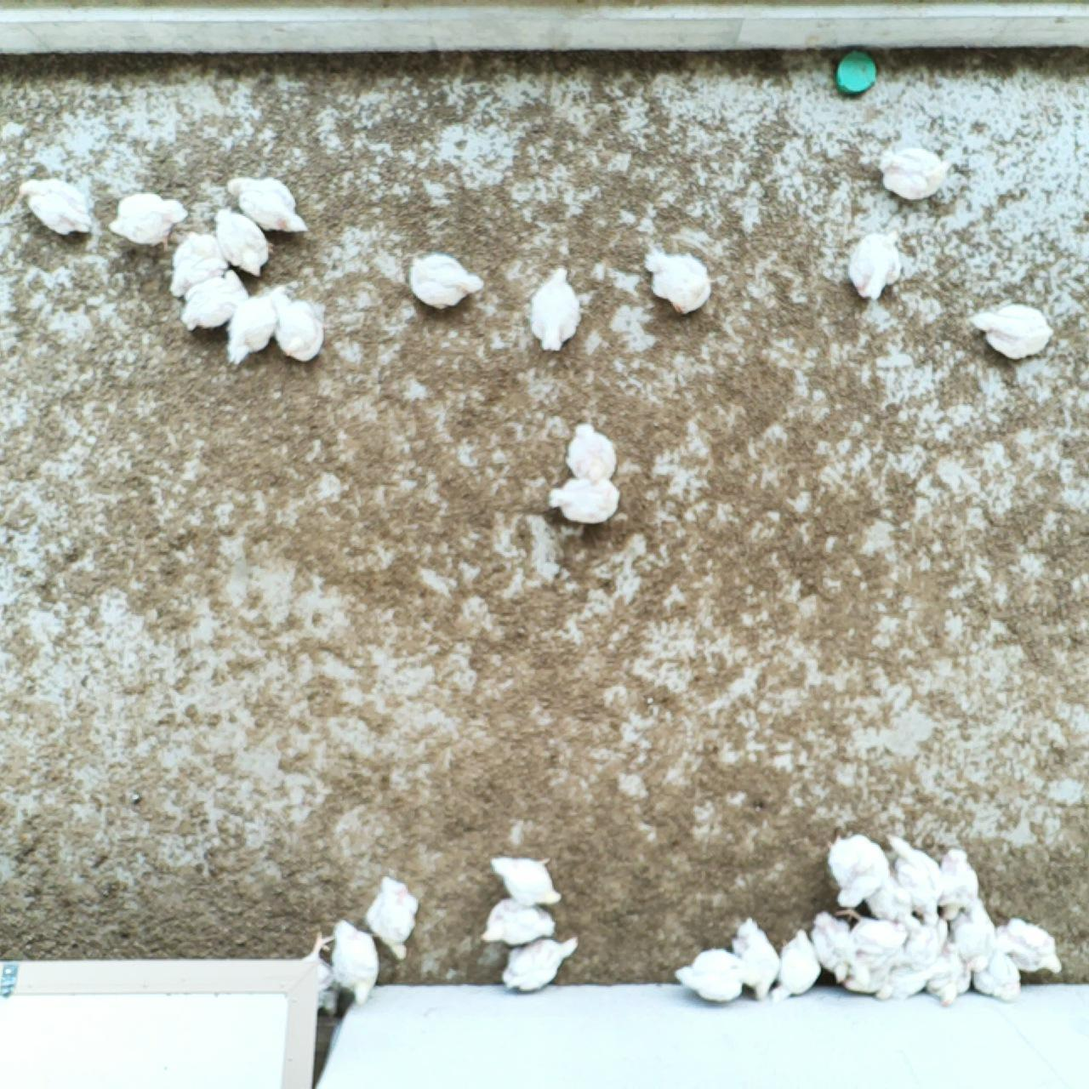chicken: (968, 291, 1062, 367), (882, 831, 954, 930), (636, 241, 720, 318), (218, 168, 306, 241), (403, 243, 488, 314), (12, 173, 103, 239), (522, 260, 584, 356), (361, 874, 424, 962), (873, 140, 958, 205), (502, 929, 581, 997), (826, 830, 891, 911), (847, 221, 909, 305), (324, 913, 380, 1006), (107, 184, 187, 249), (164, 221, 229, 299), (831, 901, 912, 961), (766, 925, 827, 1003), (221, 287, 281, 366), (211, 206, 276, 278), (269, 291, 330, 367), (673, 946, 750, 1003), (992, 916, 1065, 976), (181, 267, 245, 335), (478, 896, 562, 947), (862, 862, 923, 932), (732, 913, 778, 1005), (808, 907, 858, 991), (489, 849, 564, 905), (944, 893, 996, 971), (296, 926, 337, 1023), (890, 911, 949, 976), (546, 475, 624, 524), (923, 937, 977, 1007), (563, 419, 620, 485), (932, 844, 979, 923), (965, 947, 1029, 1003), (879, 956, 945, 1005), (836, 959, 893, 999)
